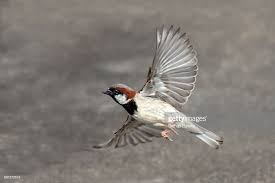hsparrow: (93, 22, 227, 160)
